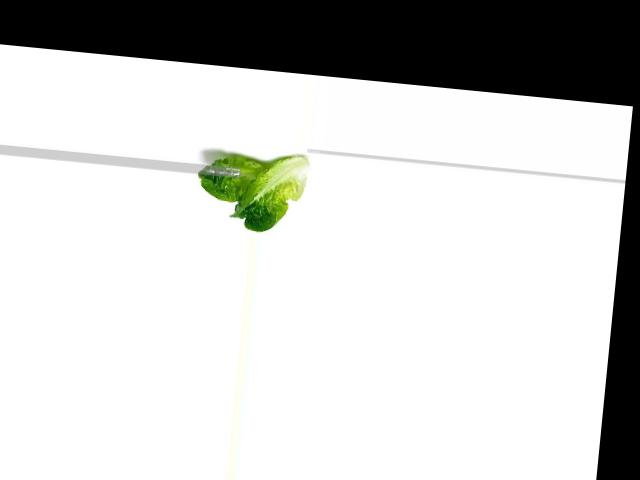lettuce: (190, 149, 313, 236)
